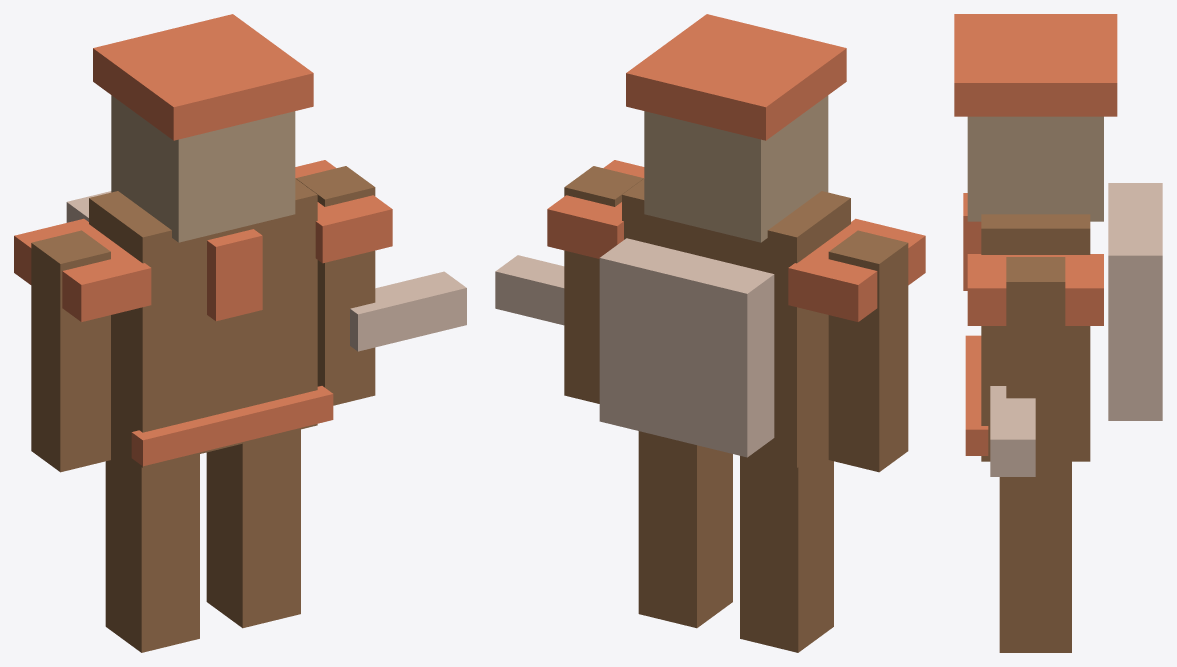
Rendered from 07_mirek_rootborne_courier_at_command.glb.
The picture shows the model from 3 angles, left to right: view 1: azimuth 30°, elevation 25°; view 2: azimuth 150°, elevation 25°; view 3: azimuth 270°, elevation 25°; orthographic projection.
Visible parts, largest first — view 1: Mirek Rootborne, Courier at Command; view 2: Mirek Rootborne, Courier at Command; view 3: Mirek Rootborne, Courier at Command.
Boxes of the visible parts, left/top/right/bottom form: Mirek Rootborne, Courier at Command: left=14, top=14, right=466, bottom=652; Mirek Rootborne, Courier at Command: left=495, top=14, right=925, bottom=652; Mirek Rootborne, Courier at Command: left=954, top=14, right=1162, bottom=652.
Size of the model in its own units: 1.04 by 1.4 by 0.4686.
